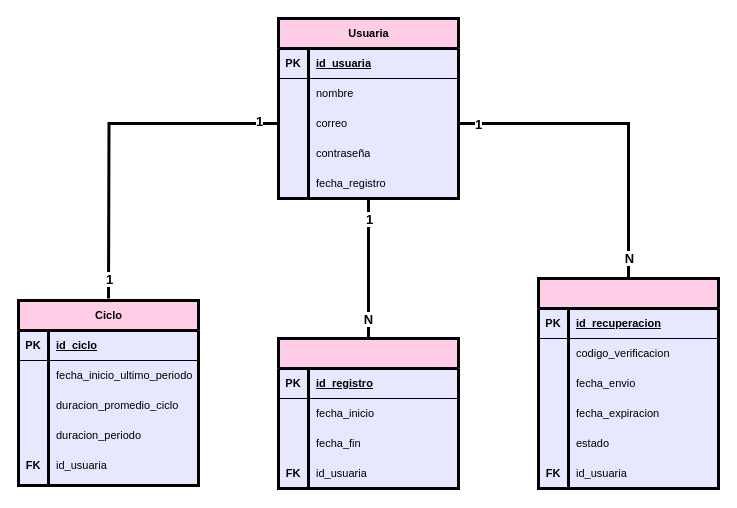
Image size: 737x508. Some labels were removed from this diagram. The shapes that lost their labels are listed below. From the top down, each one's box as (x1, y1, x2, y2) in pixels, then its label:
(536, 276, 720, 490): RecuperacionContrasena
(276, 336, 460, 490): RegistroPeriodo
